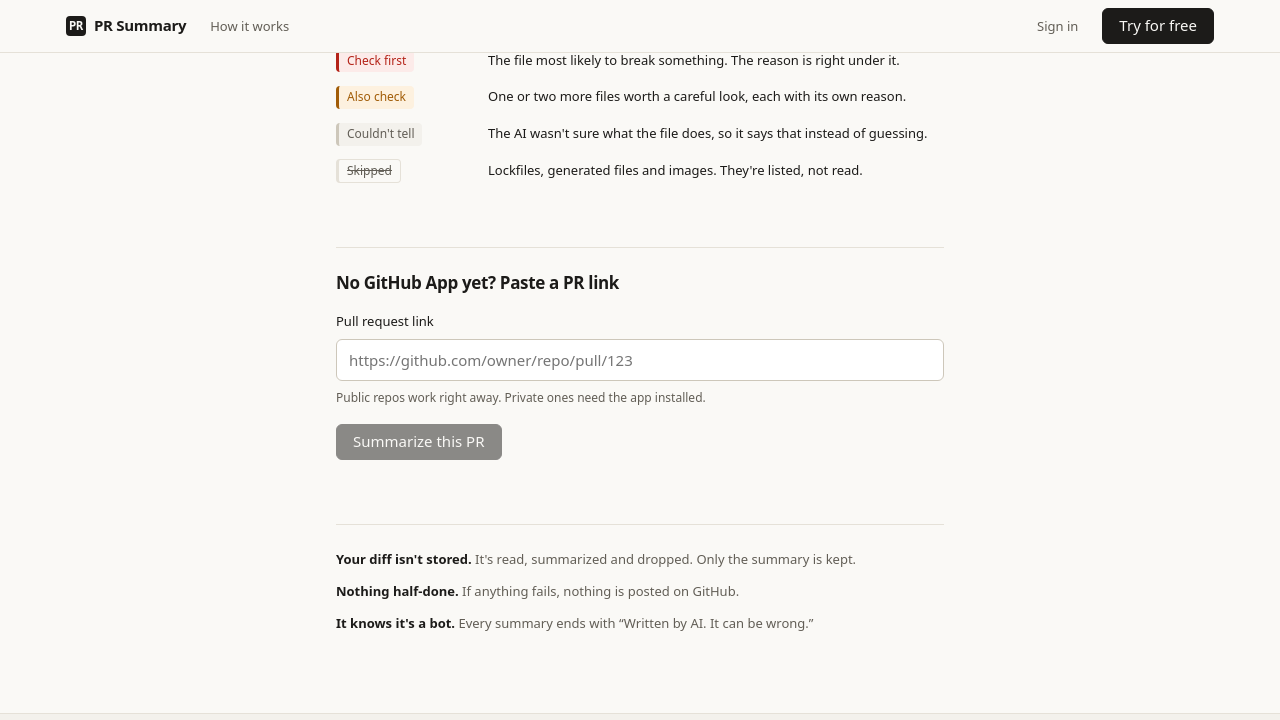
it: Landing page › only accepts a PR link in the paste box, then opens Try a diff with it
The width and height of the screenshot is (1280, 720).
(page scrolled)
Type "not a link" into the field labelled "Pull request link".
click(640, 360); type("not a link")  # box [336,339,944,381]
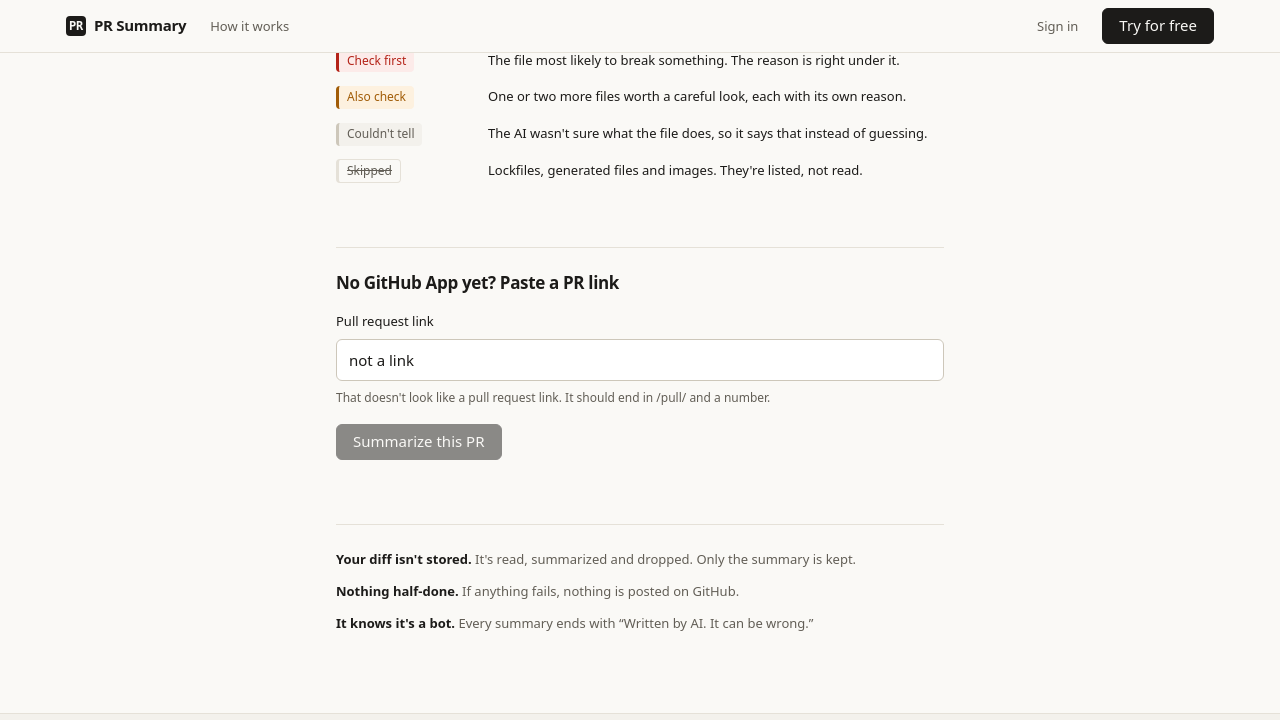
Expected: the button "Summarize this PR" is disabled, [336,424,502,460]
Result: the text "doesn't look like a pull request link" is shown at [336,389,770,406]
Replace the text in the field labelled "Pull request link" with "https://github.com/octo/app/pull/9" at (640, 360), box [336,339,944,381]
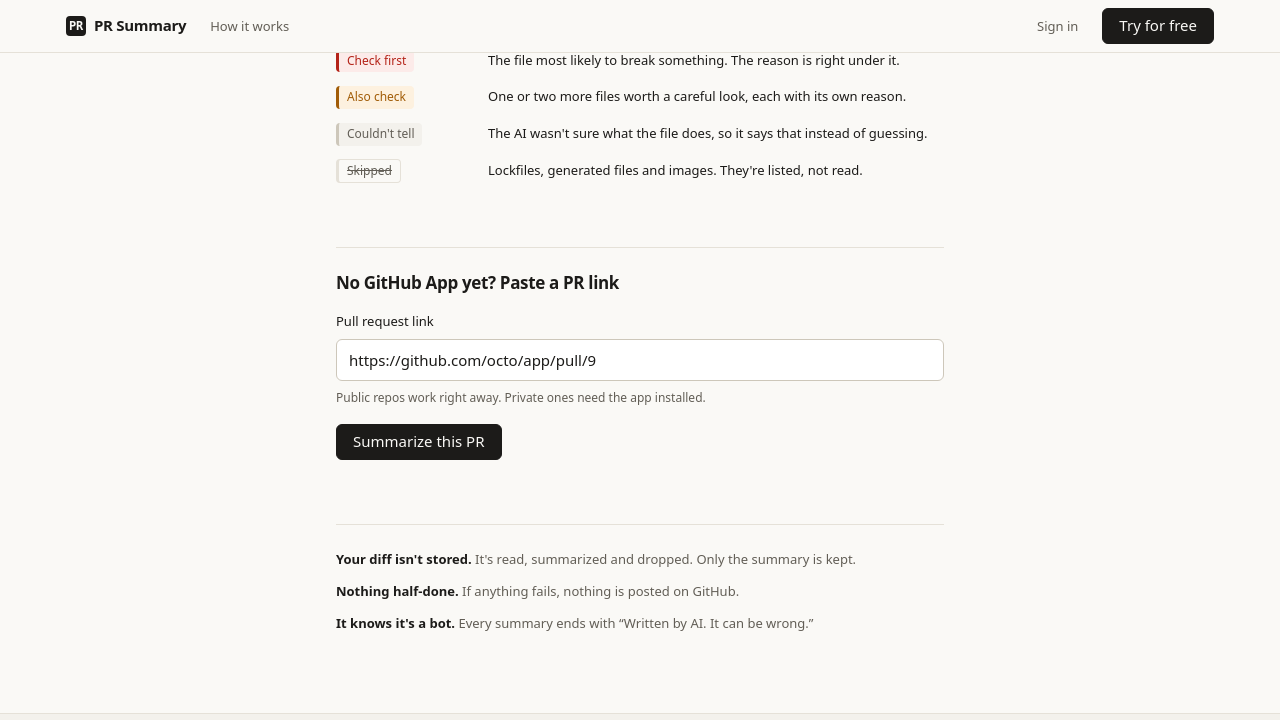
Click the button "Summarize this PR".
click(419, 442)  # box [336,424,502,460]
(page scrolled)
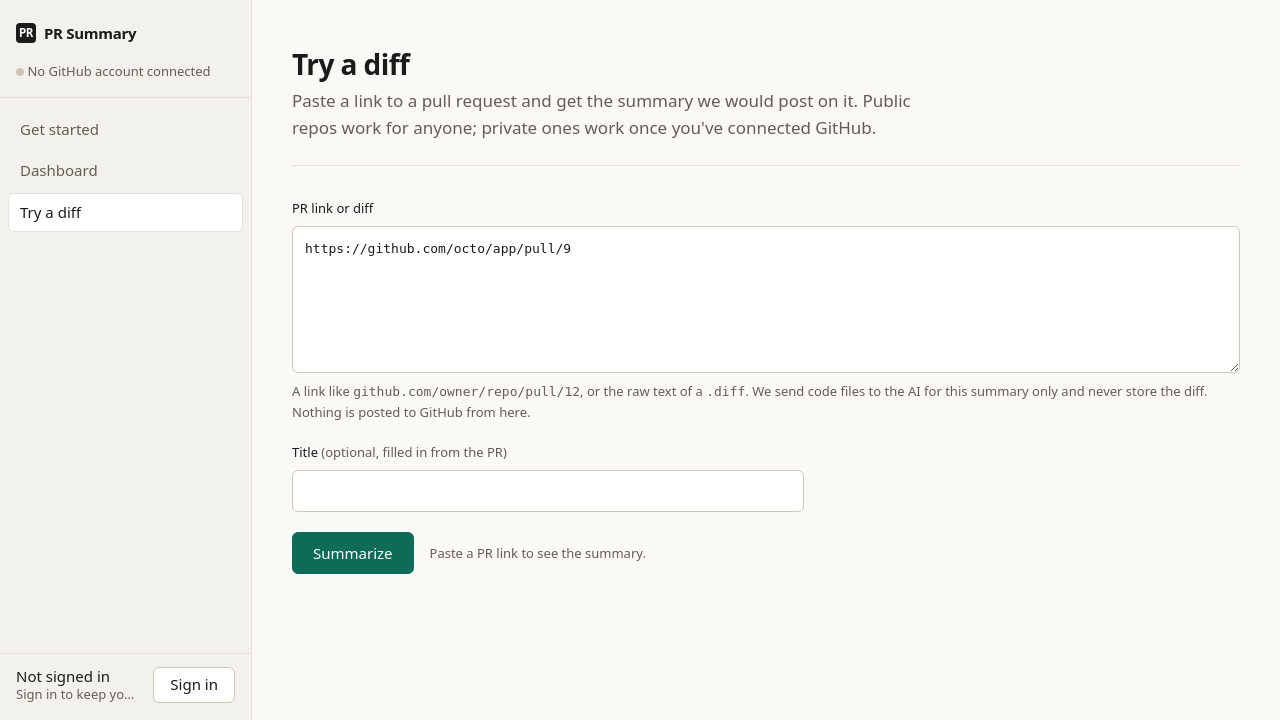
Result: the text box labelled "PR link or diff" holds "https://github.com/octo/app/pull/9" at [292,226,1240,373]
